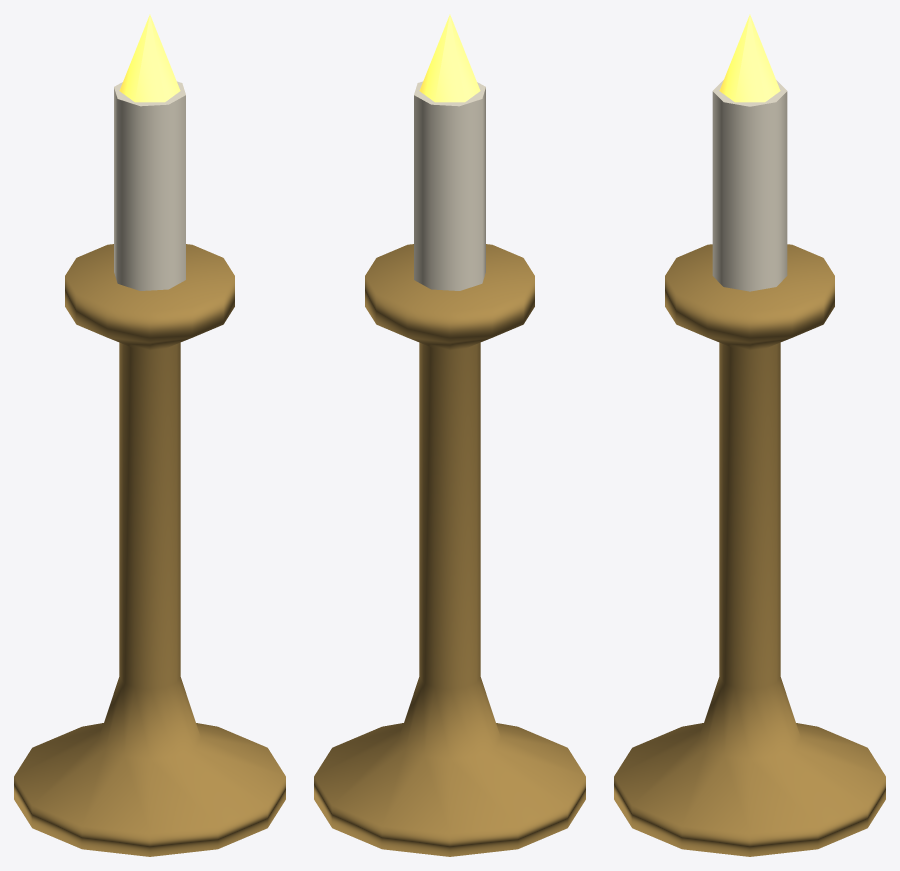
File: candlestick01.glb
3 renders of one model, left to right at view 1: azimuth 30°, elevation 25°; view 2: azimuth 150°, elevation 25°; view 3: azimuth 270°, elevation 25°, orthographic.
Parts seen in each view (by area): view 1: body; view 2: body; view 3: body.
Part boxes in pixels (bbox=[...]): body: bbox=[14, 14, 285, 856]; body: bbox=[314, 14, 585, 856]; body: bbox=[614, 14, 885, 856].
Size of the model in its own units: 0.16 by 0.51 by 0.16.
